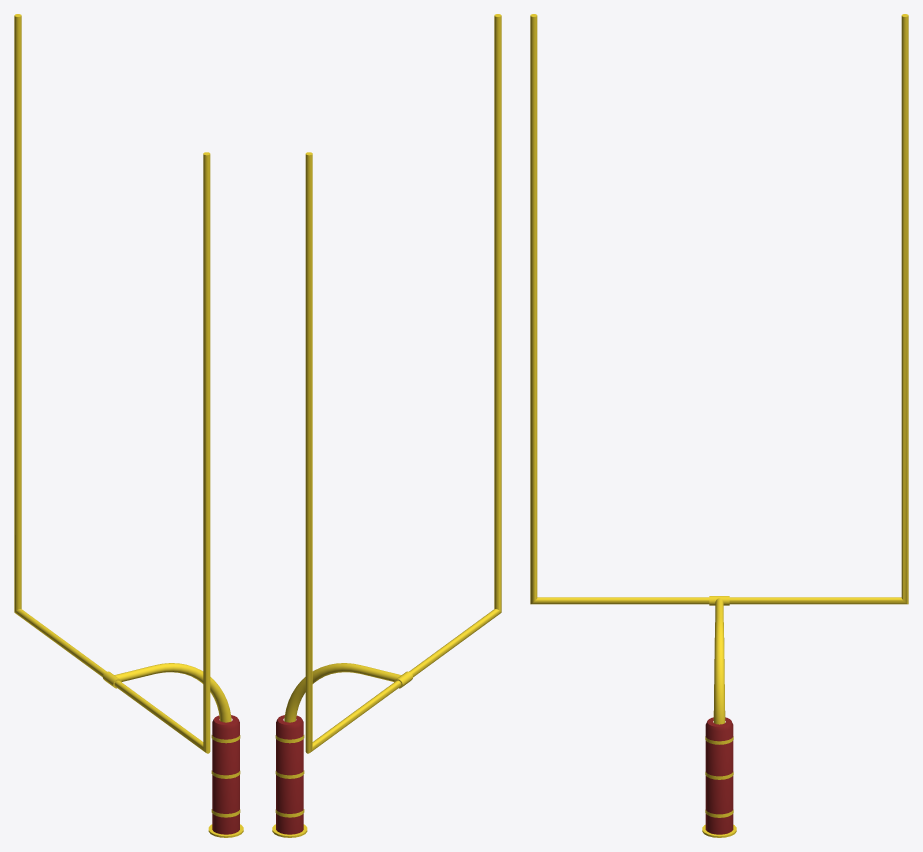
File: goalpost.glb
3 views of the same model, side by side, from view 1: azimuth 30°, elevation 25°; view 2: azimuth 150°, elevation 25°; view 3: azimuth 270°, elevation 25° (orthographic).
Parts seen in each view (by area): view 1: goalpost; view 2: goalpost; view 3: goalpost.
Part boxes in pixels (box(x1,y1,x2,y2)): goalpost: box(14, 14, 243, 837); goalpost: box(272, 14, 501, 837); goalpost: box(530, 14, 908, 837).
Bounding box in the file's own units: 2.35 × 13 × 5.86.
